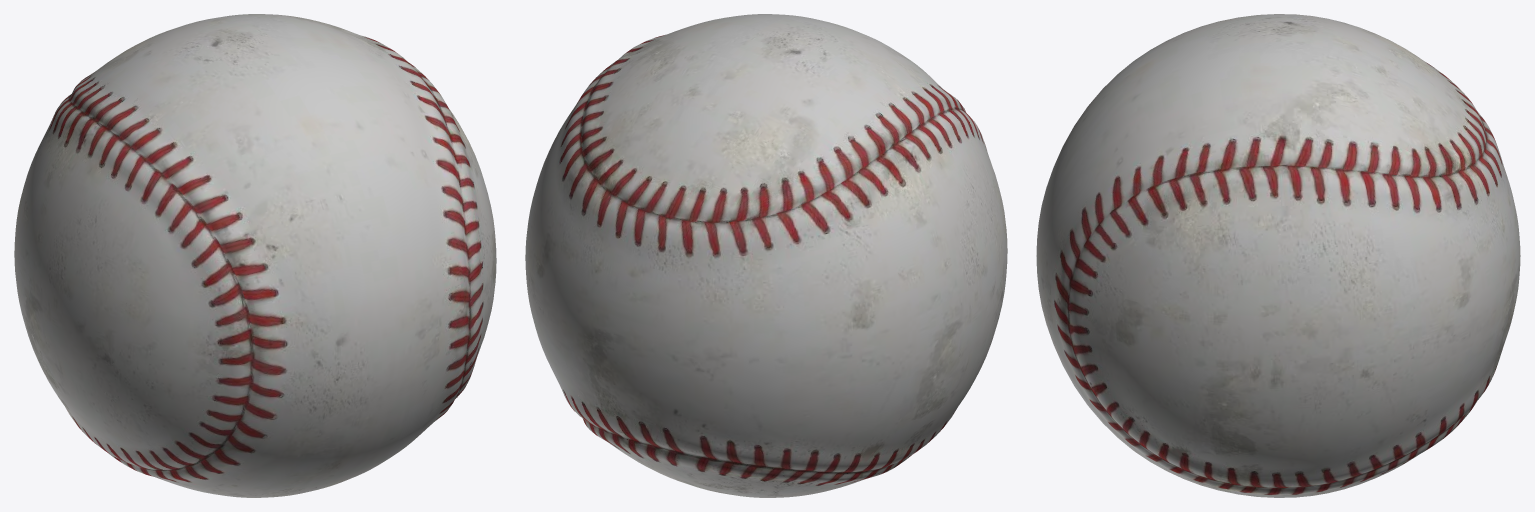
The model's file is baseball_01.glb.
3 views of the same model, side by side, from view 1: azimuth 30°, elevation 25°; view 2: azimuth 150°, elevation 25°; view 3: azimuth 270°, elevation 25° (orthographic).
Visible parts, largest first — view 1: baseball_01; view 2: baseball_01; view 3: baseball_01.
Boxes of the visible parts, x1,y1,x2,y2 form: baseball_01: (14, 14, 496, 497); baseball_01: (525, 14, 1007, 497); baseball_01: (1036, 14, 1520, 497).
Bounding box in the file's own units: 0.0735 × 0.0753 × 0.0752.
1 material, 1 textured.
